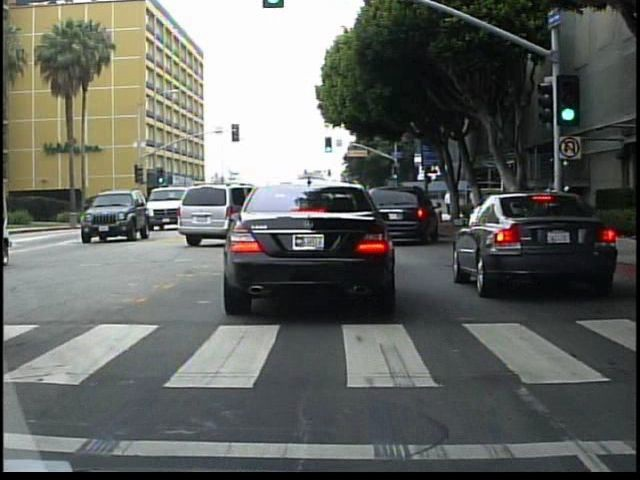person: (551, 175, 570, 234), (442, 187, 456, 218)
